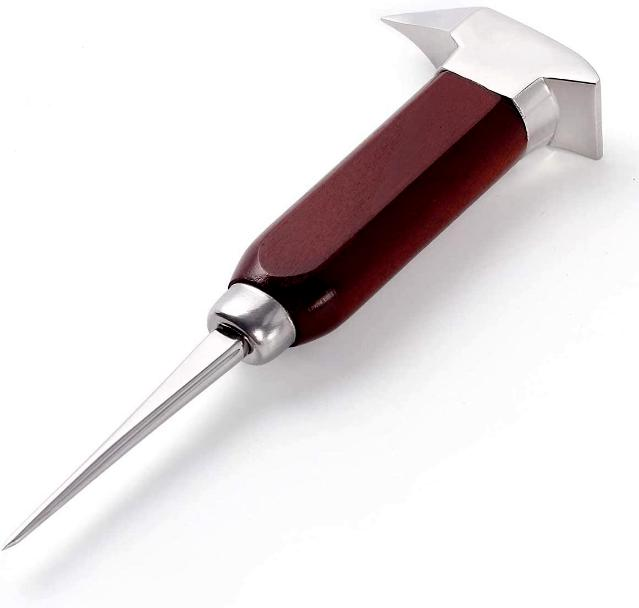ice pick: (1, 8, 606, 548)
